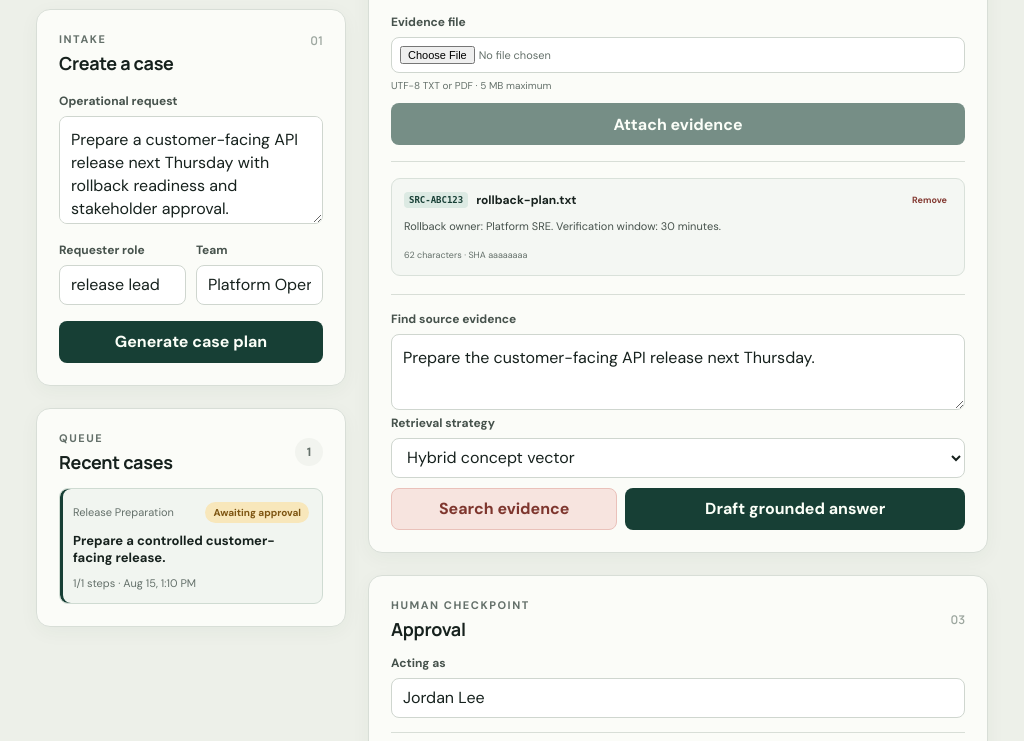
Test: Workflow Copilot › explains when weak results are excluded from supporting-only context
(page scrolled)
Replace the text in the text box labelled "Find source evidence" with "customer support coverage" at (678,372), box [391, 334, 965, 410]
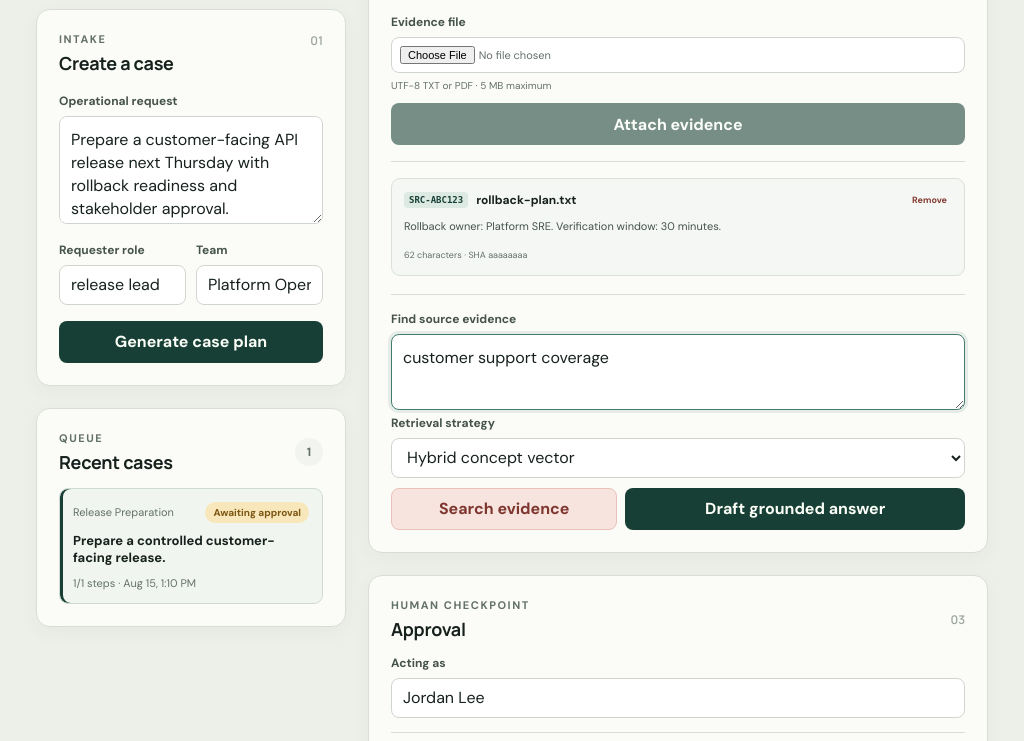
Click the button "Draft grounded answer" at (795,509), box [625, 488, 965, 530]
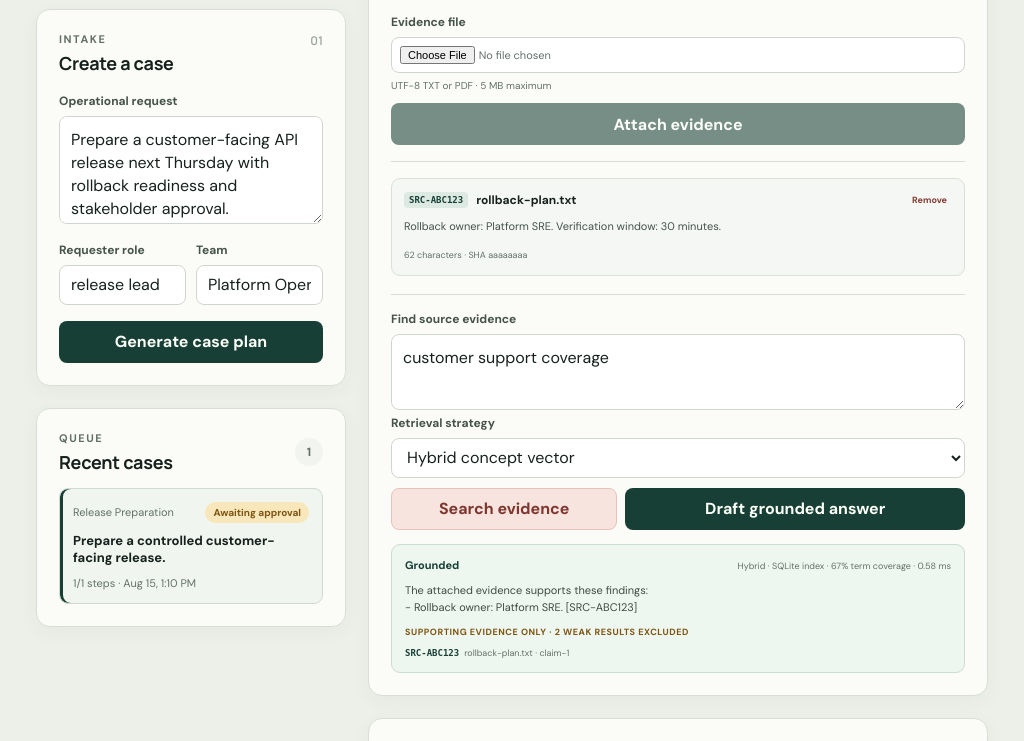
Check: the text "Supporting evidence only · 2 weak results excluded" is shown, box [405, 626, 689, 638]
